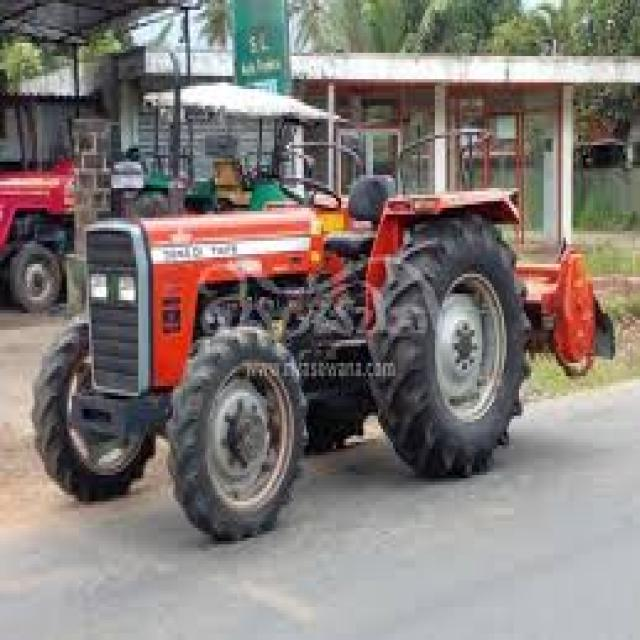tractor: (31, 183, 589, 563), (109, 69, 311, 228), (0, 166, 71, 324)
